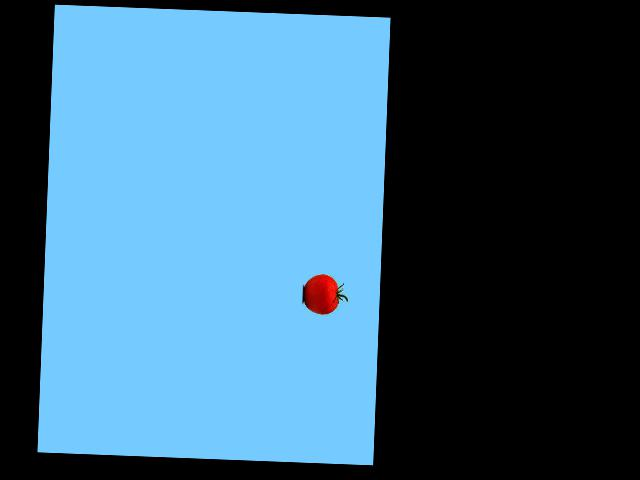tomato: (303, 273, 339, 314)
